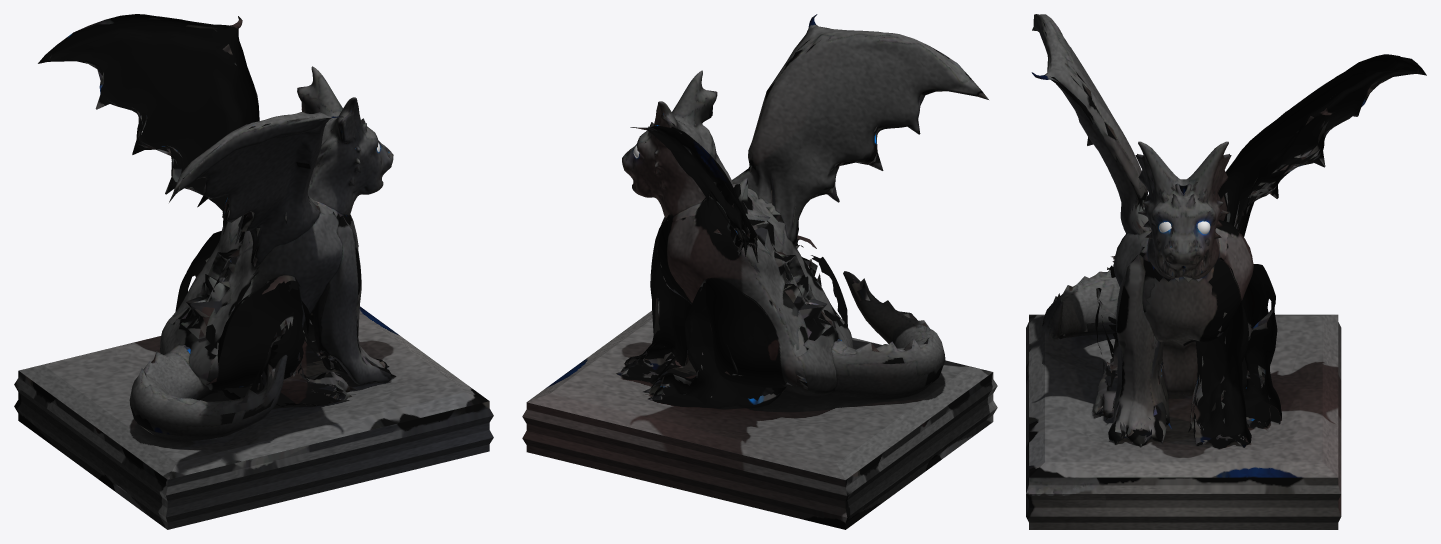
File: gargoyle2.fbx
3 views of the same model, side by side, from view 1: azimuth 30°, elevation 25°; view 2: azimuth 150°, elevation 25°; view 3: azimuth 270°, elevation 25° (orthographic). The views are drawn at different scales.
Parts seen in each view (by area): view 1: Cube, Icosphere.005, Sphere, Icosphere.004, Torus, Sphere.001, Icosphere, Icosphere.002, Icosphere.003; view 2: Cube, Icosphere.004, Sphere, Torus, Sphere.001, Icosphere.003, Icosphere.005, Icosphere.001, Icosphere.002; view 3: Cube, Sphere, Icosphere.005, Sphere.001, Icosphere, Icosphere.004, Icosphere.001, Icosphere.003, Torus, Icosphere.002.
Part boxes in pixels (bbox=[...]): Cube: bbox=[14, 306, 493, 529]; Icosphere.005: bbox=[38, 14, 259, 211]; Sphere: bbox=[160, 201, 358, 393]; Icosphere.004: bbox=[169, 111, 343, 267]; Torus: bbox=[129, 344, 287, 440]; Sphere.001: bbox=[297, 66, 393, 215]; Icosphere: bbox=[313, 216, 396, 385]; Icosphere.002: bbox=[217, 275, 356, 406]; Icosphere.003: bbox=[175, 231, 221, 311]; Cube: bbox=[522, 311, 997, 529]; Icosphere.004: bbox=[732, 14, 988, 244]; Sphere: bbox=[657, 178, 852, 396]; Torus: bbox=[827, 271, 945, 399]; Sphere.001: bbox=[622, 70, 733, 218]; Icosphere.003: bbox=[643, 278, 786, 408]; Icosphere.005: bbox=[630, 125, 758, 262]; Icosphere.001: bbox=[616, 214, 691, 382]; Icosphere.002: bbox=[794, 235, 847, 326]; Cube: bbox=[1026, 314, 1341, 529]; Sphere: bbox=[1113, 219, 1253, 394]; Icosphere.005: bbox=[1218, 54, 1426, 236]; Sphere.001: bbox=[1135, 141, 1231, 279]; Icosphere: bbox=[1108, 254, 1171, 447]; Icosphere.004: bbox=[1031, 14, 1151, 234]; Icosphere.001: bbox=[1188, 257, 1251, 447]; Icosphere.003: bbox=[1242, 264, 1281, 428]; Torus: bbox=[1042, 270, 1119, 340]; Icosphere.002: bbox=[1092, 256, 1118, 420].
Bounding box in the file's own units: 343 × 375 × 350.
